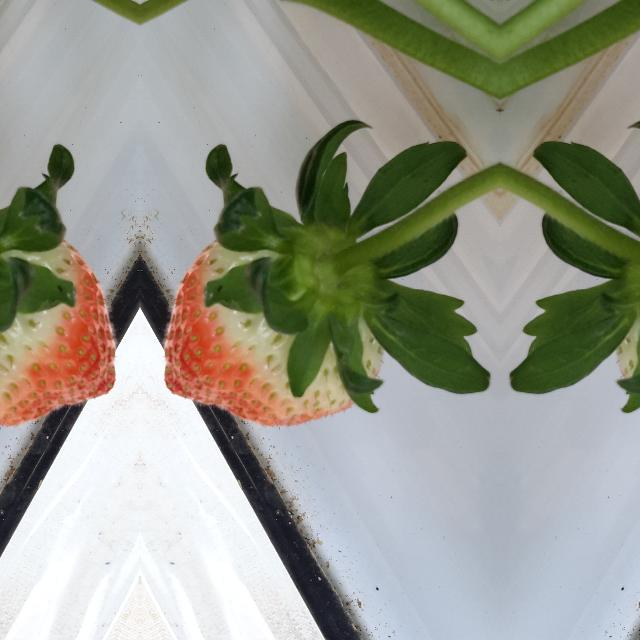Health_100: (162, 240, 382, 430), (0, 240, 118, 430)
